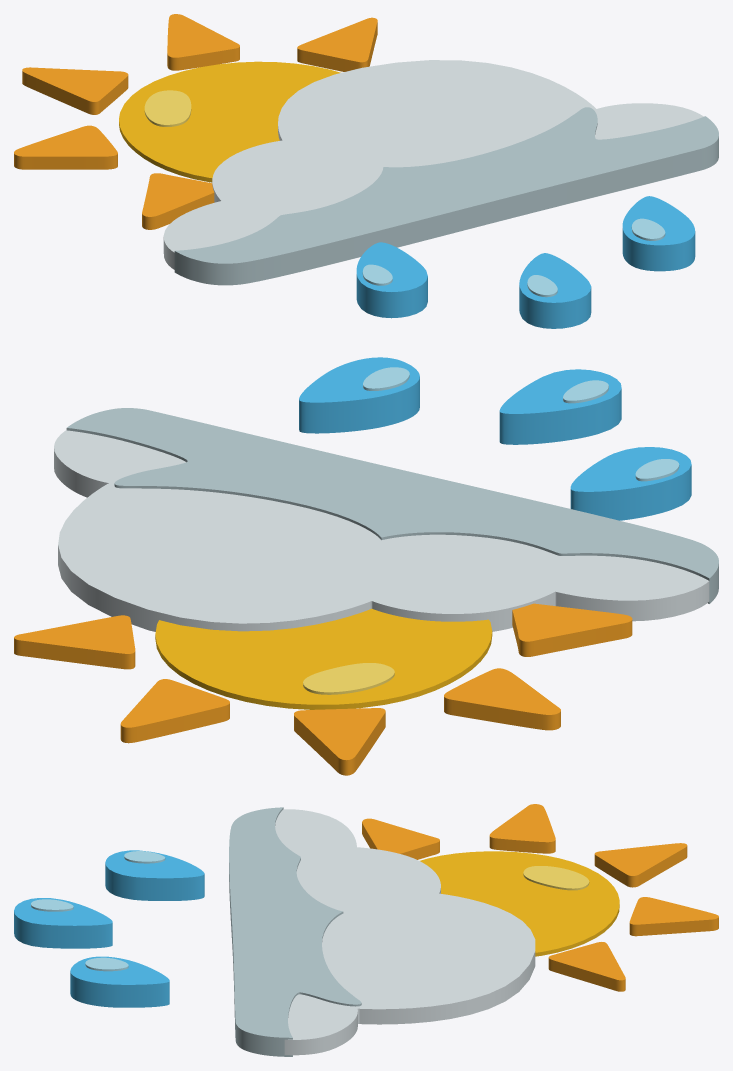
File: emoji_u1f326.glb
The picture shows the model from 3 angles, top to bottom: view 1: azimuth 30°, elevation 25°; view 2: azimuth 150°, elevation 25°; view 3: azimuth 270°, elevation 25°; orthographic projection. The views are drawn at different scales.
Visible parts, largest first — view 1: emoji_u1f326; view 2: emoji_u1f326; view 3: emoji_u1f326.
Boxes of the visible parts, box(x1,y1,x2,y2) form: emoji_u1f326: box(14, 14, 718, 328); emoji_u1f326: box(14, 357, 718, 775); emoji_u1f326: box(14, 804, 718, 1056).
Bounding box in the file's own units: 0.0267 × 0.0014 × 0.0335.
